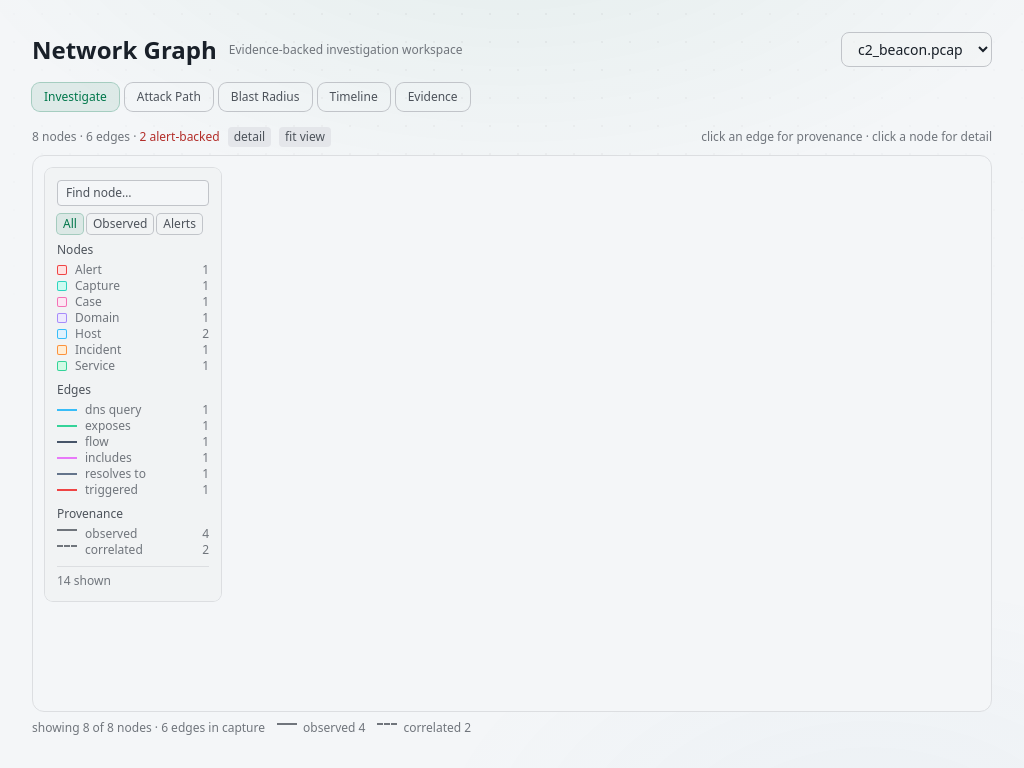
Scenario: GraphPage — investigation workspace › Investigate filter rail › toggles a node kind filter off (hides those nodes + incident edges)
expect the text "14 shown" is shown: met, box [57, 566, 209, 589]
What coordinates should you click on to do the following:
click the text "service"
I would click on:
 (95, 366)
Its box is [75, 357, 115, 374].
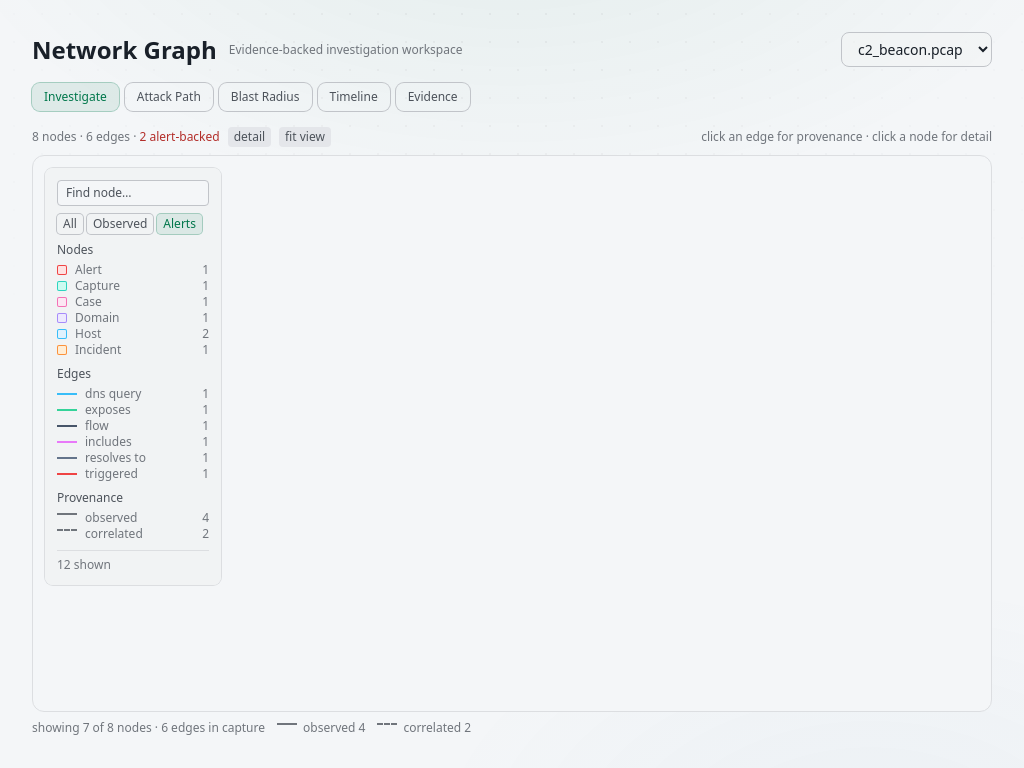
expect the text "12 shown" is shown: met, box [57, 550, 209, 573]
